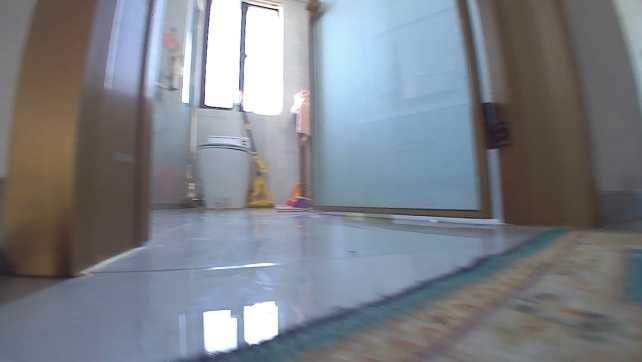blanket: (163, 225, 641, 361)
door_anno: (302, 0, 599, 225)
toilet: (194, 132, 257, 208)
